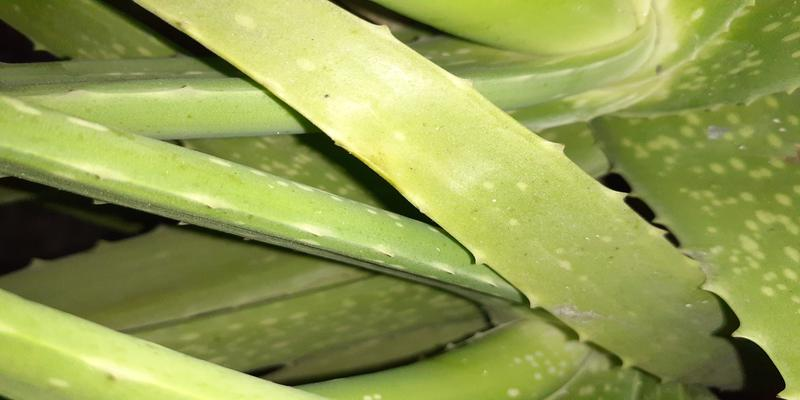Aloevera: (77, 29, 796, 369)
